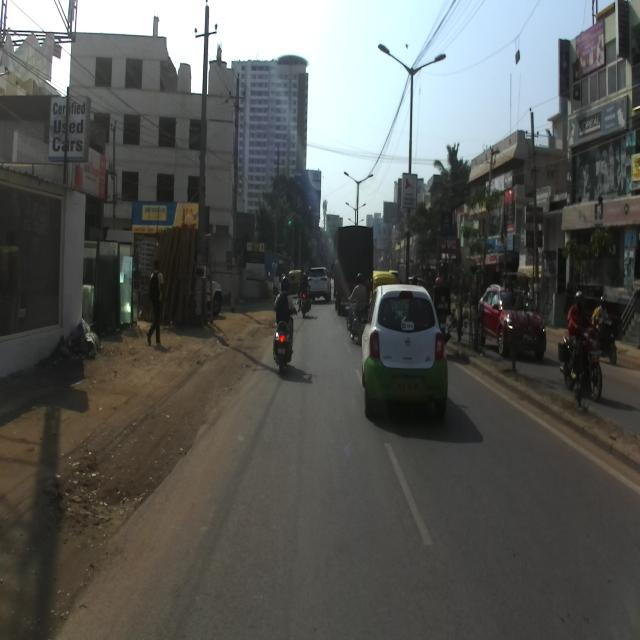car ahead at: (365, 279, 449, 428)
electric pole ahead at: (190, 0, 222, 331)
motorcycle ahead at: (272, 322, 300, 374)
person ahead at: (146, 256, 167, 350)
